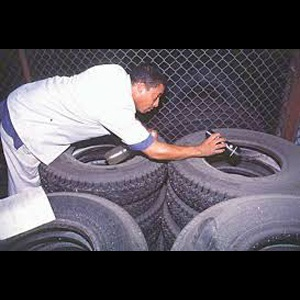tire: (168, 129, 300, 213), (38, 128, 169, 204), (1, 192, 150, 251)
